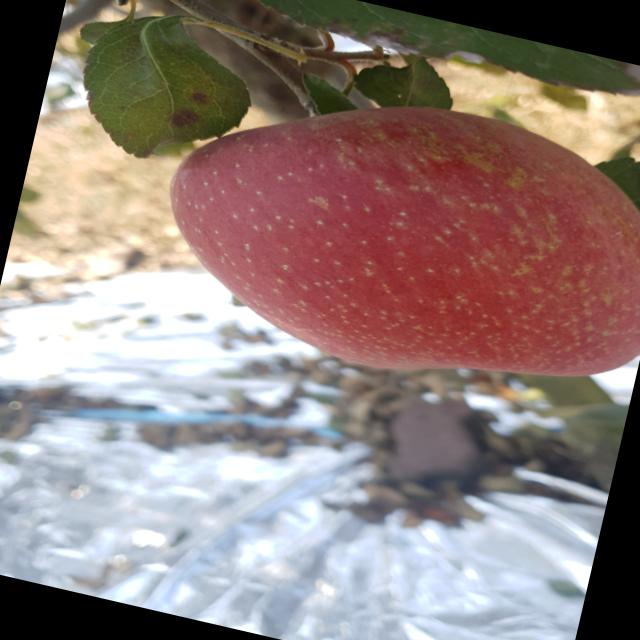fresh: (123, 36, 640, 435)
